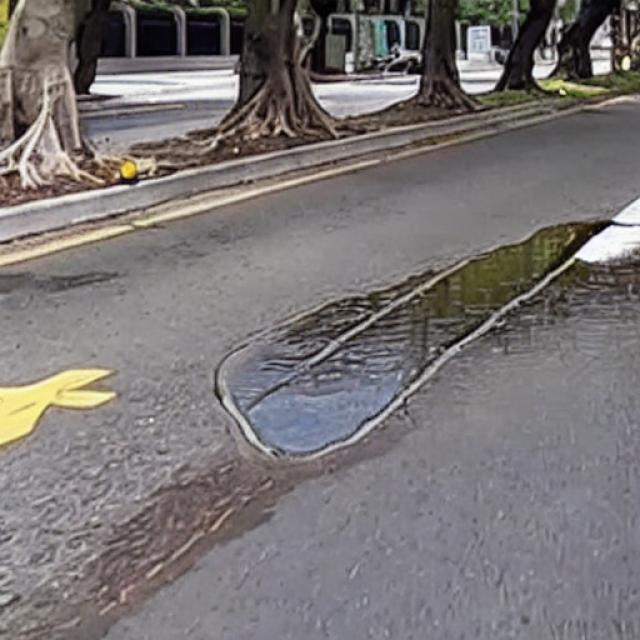puddle: (223, 222, 611, 457)
